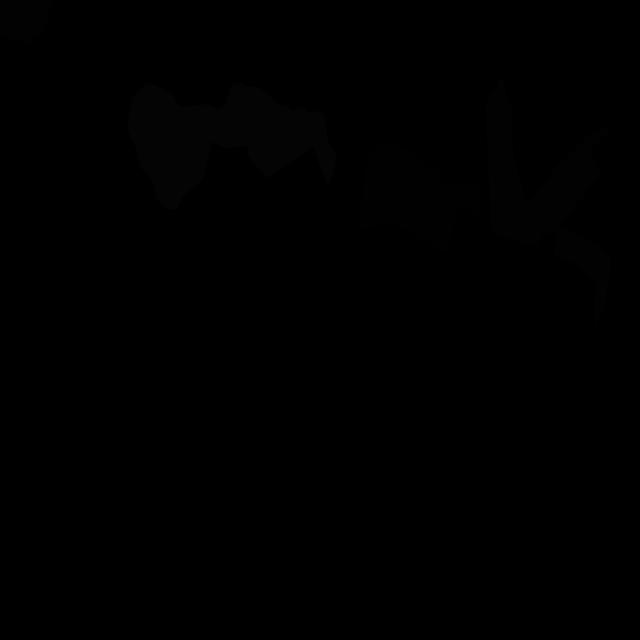cardboard: (485, 74, 611, 246), (554, 225, 612, 327), (0, 0, 53, 44)
rigid_plastic: (359, 144, 486, 255)
soft_plastic: (127, 83, 336, 210)
